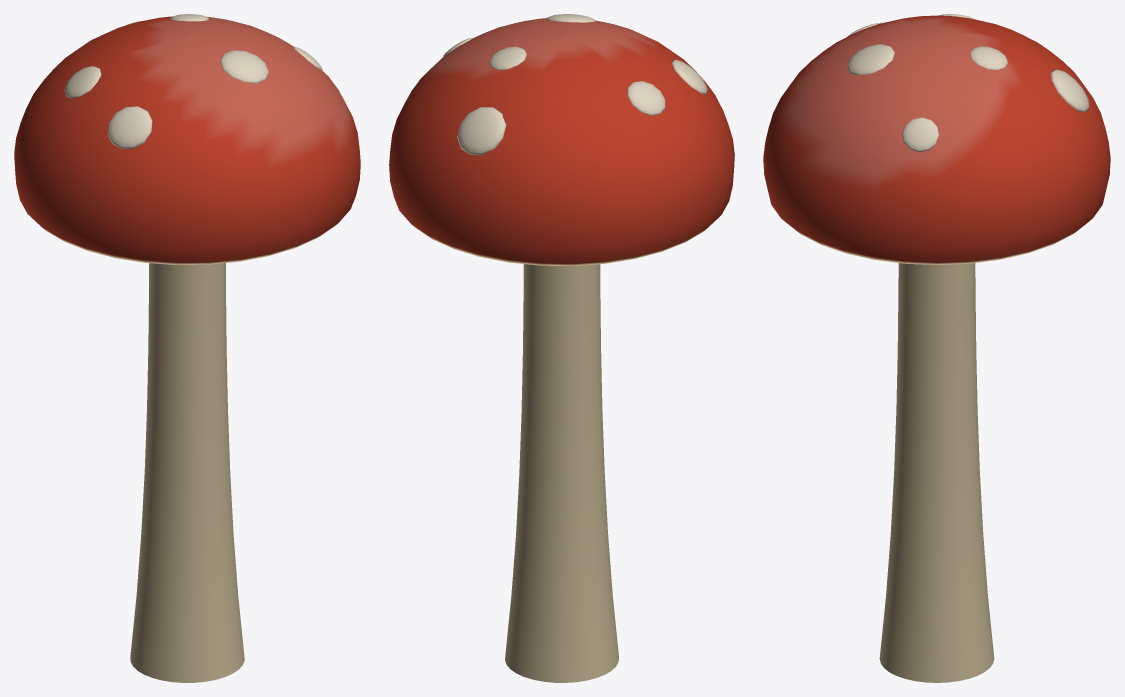
Rendered from mushroom-single.obj.
The picture shows the model from 3 angles, left to right: view 1: azimuth 30°, elevation 25°; view 2: azimuth 150°, elevation 25°; view 3: azimuth 270°, elevation 25°; orthographic projection.
Visible parts, largest first — view 1: mushroom; view 2: mushroom; view 3: mushroom.
Boxes of the visible parts, left/top/right/bottom form: mushroom: left=14, top=14, right=360, bottom=682; mushroom: left=389, top=14, right=734, bottom=682; mushroom: left=763, top=14, right=1110, bottom=682.
Bounding box in the file's own units: 380 × 752 × 380.
